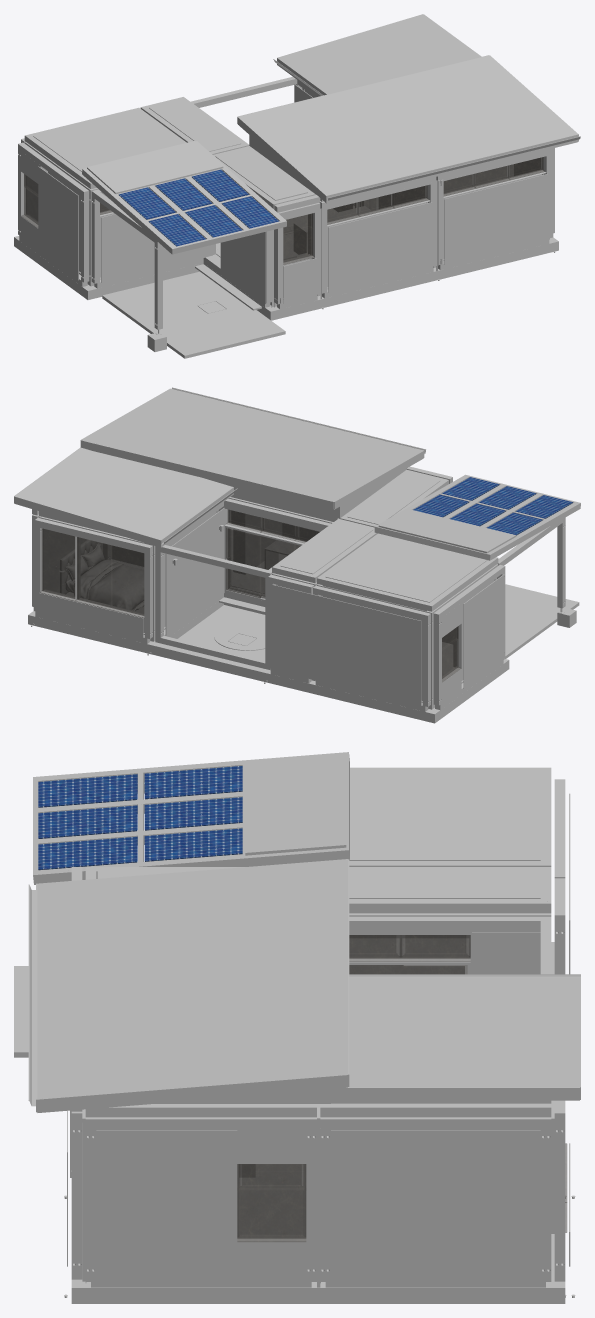
The model's file is designstudio-v1.glb.
3 renders of one model, top to bottom at view 1: azimuth 30°, elevation 25°; view 2: azimuth 150°, elevation 25°; view 3: azimuth 270°, elevation 25°, orthographic. The views are drawn at different scales.
Visible parts, largest first — view 1: Basic Roof Roof Assembly [719170], Basic Roof Roof Assembly 3 [948292], Floor CONCRETO APARENTE_100mm [644618], Basic Wall Wall-Vertical Cladding_19mm [668327], Basic Wall Wall-Vertical Cladding_19mm [668018], Basic Roof Roof Assembly Flat [903348], Basic Roof Generic - Glass [903814], Basic Wall Wall-Vertical Cladding_19mm [666889], Basic Wall Wall-Vertical Cladding_19mm [670635], M_Concrete-Rectangular Beam _T-4_CONCRETO ARMADO_350x30_0499, Basic Wall Wall-Vertical Cladding_19mm [749917], Fascia Fascia [725003] (+47 smaller); view 2: Basic Roof Roof Assembly [719170], Basic Wall Wall-Vertical Cladding_19mm [666989], Basic Roof Roof Assembly 3 [948292], Basic Roof Roof Assembly Flat [903348], Basic Wall Wall-Vertical Cladding_19mm [749163], OriginGlobal_Window_Aluminium_OW70_Fixed_SideHung 14000_9201, Basic Wall Wall-Vertical Cladding_19mm [666889], M_Concrete-Rectangular Beam _T-4_CONCRETO ARMADO_350x30_3233, Fascia Fascia [725003], Basic Roof Generic - Glass [903814], OriginGlobal_OS44_Window, Floor CONCRETO APARENTE_100mm [644618] (+56 smaller); view 3: Basic Roof Roof Assembly [719170], Basic Wall Wall-Vertical Cladding_19mm [662810], Basic Roof Roof Assembly 3 [948292], Basic Wall Wall-Vertical Cladding_19mm [742133], Basic Roof Roof Assembly Flat [903348], Basic Roof Generic - Glass [903814], M_Concrete-Rectangular Beam _T-4_CONCRETO ARMADO_350x30_93c1, Basic Wall Wall-Generic 450 [743423], Basic Roof Roof Assembly Flat [904560], Fascia Fascia [725003], OriginGlobal_Window_Aluminium_OW80_BtmFixed_TopHung 110_45d5, Fascia Fascia [948913] (+44 smaller).
Boxes of the visible parts, left/top/right/bottom form: Basic Roof Roof Assembly [719170]: left=238, top=55, right=577, bottom=195; Basic Roof Roof Assembly 3 [948292]: left=278, top=14, right=480, bottom=94; Floor CONCRETO APARENTE_100mm [644618]: left=102, top=271, right=285, bottom=358; Basic Wall Wall-Vertical Cladding_19mm [668327]: left=328, top=202, right=432, bottom=292; Basic Wall Wall-Vertical Cladding_19mm [668018]: left=444, top=174, right=548, bottom=264; Basic Roof Roof Assembly Flat [903348]: left=33, top=110, right=181, bottom=171; Basic Roof Generic - Glass [903814]: left=87, top=141, right=223, bottom=194; Basic Wall Wall-Vertical Cladding_19mm [666889]: left=38, top=166, right=78, bottom=280; Basic Wall Wall-Vertical Cladding_19mm [670635]: left=101, top=200, right=204, bottom=282; M_Concrete-Rectangular Beam _T-4_CONCRETO ARMADO_350x30_0499: left=280, top=237, right=558, bottom=318; Basic Wall Wall-Vertical Cladding_19mm [749917]: left=220, top=208, right=266, bottom=304; Fascia Fascia [725003]: left=237, top=55, right=578, bottom=202; Basic Roof Roof Assembly [719170]: left=81, top=389, right=422, bottom=501; Basic Wall Wall-Vertical Cladding_19mm [666989]: left=272, top=584, right=421, bottom=705; Basic Roof Roof Assembly 3 [948292]: left=15, top=447, right=232, bottom=539; Basic Roof Roof Assembly Flat [903348]: left=325, top=534, right=487, bottom=602; Basic Wall Wall-Vertical Cladding_19mm [749163]: left=165, top=508, right=224, bottom=635; OriginGlobal_Window_Aluminium_OW70_Fixed_SideHung 14000_9201: left=75, top=537, right=144, bottom=617; Basic Wall Wall-Vertical Cladding_19mm [666889]: left=463, top=574, right=504, bottom=688; M_Concrete-Rectangular Beam _T-4_CONCRETO ARMADO_350x30_3233: left=146, top=641, right=440, bottom=723; Fascia Fascia [725003]: left=80, top=388, right=424, bottom=509; Basic Roof Generic - Glass [903814]: left=378, top=509, right=516, bottom=553; OriginGlobal_OS44_Window: left=226, top=527, right=300, bottom=598; Floor CONCRETO APARENTE_100mm [644618]: left=504, top=584, right=579, bottom=658; Basic Roof Roof Assembly [719170]: left=37, top=859, right=347, bottom=1099; Basic Wall Wall-Vertical Cladding_19mm [662810]: left=331, top=1130, right=540, bottom=1279; Basic Roof Roof Assembly 3 [948292]: left=348, top=977, right=579, bottom=1087; Basic Wall Wall-Vertical Cladding_19mm [742133]: left=96, top=1130, right=237, bottom=1279; Basic Roof Roof Assembly Flat [903348]: left=349, top=771, right=540, bottom=860; Basic Roof Generic - Glass [903814]: left=245, top=753, right=346, bottom=855; M_Concrete-Rectangular Beam _T-4_CONCRETO ARMADO_350x30_93c1: left=92, top=1279, right=565, bottom=1303; Basic Wall Wall-Generic 450 [743423]: left=237, top=1129, right=306, bottom=1278; Basic Roof Roof Assembly Flat [904560]: left=349, top=870, right=540, bottom=898; Fascia Fascia [725003]: left=36, top=859, right=349, bottom=1112; OriginGlobal_Window_Aluminium_OW80_BtmFixed_TopHung 110_45d5: left=237, top=1164, right=306, bottom=1242; Fascia Fascia [948913]: left=327, top=976, right=580, bottom=1100.
Size of the model in its own units: 14.25 by 4.53 by 9.59.
Materials: 5 (5 with a texture image).
